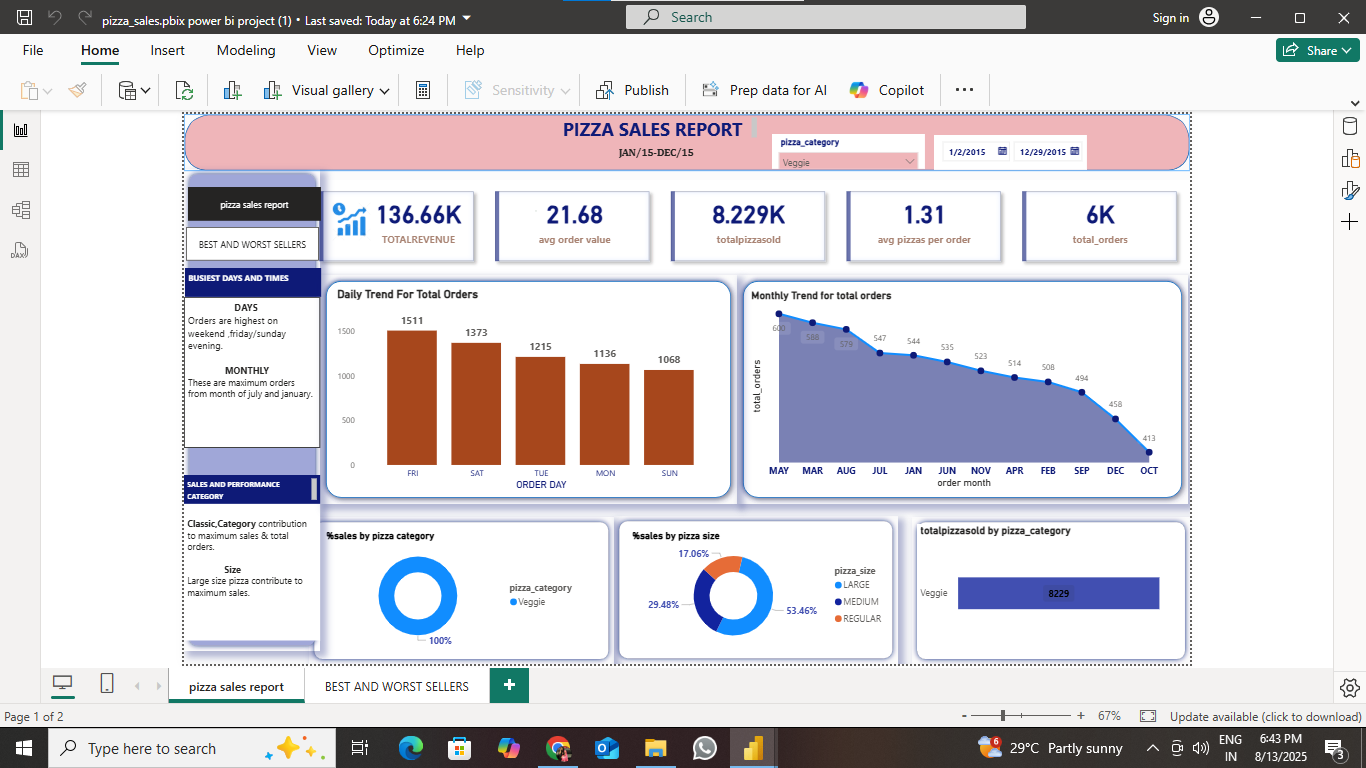

This screenshot's page, from the dashboard's own definition file:
{"tool":"powerbi","page":{"name":"pizza sales report ","canvas":[1500,820],"ordinal":0},"visuals":[{"type":"cardVisual","fields":{"Data":["pizza_sales.TOTALREVENUE","pizza_sales.avg order value","pizza_sales.totalpizzasold","pizza_sales.avg pizzas per order","pizza_sales.total_orders"]},"box":[184.3,98.6,1315.7,138.6],"z":0},{"type":"shape","box":[0,0,1500,85.1],"z":1000},{"type":"textbox","box":[564.2,43.3,280.6,29.9],"z":2000},{"type":"textbox","box":[547.8,0,311.9,43.3],"z":3000},{"type":"areaChart","box":[841.3,255.8,638,306.7],"z":4000},{"type":"shape","box":[824.9,239.4,672.4,341.1],"z":5000},{"type":"areaChart","title":"Monthly Trend for total orders","fields":{"Y":["pizza_sales.total_orders"],"Category":["pizza_sales.order month"]},"box":[841.3,260.8,623.2,301.8],"z":6000},{"type":"shape","box":[187,600.2,454.3,219.8],"z":7000},{"type":"shape","box":[641.4,600,422.9,220],"z":8000},{"type":"shape","box":[1085.7,600.2,414.9,219.8],"z":9000},{"type":"donutChart","title":"%sales by pizza category","fields":{"Category":["pizza_sales.pizza_category"],"Y":["pizza_sales.TOTALREVENUE"]},"box":[206.6,619.9,392,180.4],"z":10000},{"type":"donutChart","title":"%sales by pizza size","fields":{"Y":["pizza_sales.TOTALREVENUE"],"Category":["pizza_sales.pizza_size"]},"box":[662.9,620,391.4,180],"z":11000},{"type":"funnel","fields":{"Category":["pizza_sales.pizza_category"],"Y":["pizza_sales.totalpizzasold"]},"box":[1092.9,611.4,371.4,188.6],"z":12000},{"type":"shape","box":[0,82,203.4,718.3],"z":13000},{"type":"textbox","box":[1.4,229.2,202.8,43.1],"z":14000},{"type":"textbox","box":[0,272.2,202.8,225],"z":15000},{"type":"textbox","box":[0,580.6,203.4,205],"z":16000},{"type":"slicer","fields":{"Values":["pizza_sales.pizza_category"]},"box":[876.1,29.9,228.4,52.2],"z":17000},{"type":"slicer","fields":{"Values":["pizza_sales.order_date"]},"box":[1117.9,31.3,228.4,52.2],"z":18000},{"type":"shape","box":[203.4,239.4,621.6,341.1],"z":19000},{"type":"columnChart","title":"Daily Trend For Total Orders","fields":{"Category":["pizza_sales.ORDER DAY"],"Y":["pizza_sales.total_orders"]},"box":[223,257.5,582.2,308.3],"z":20000},{"type":"textbox","box":[0,537.9,203.4,42.6],"z":21000},{"type":"pageNavigator","box":[5.6,108.3,198.6,50],"z":22000},{"type":"pageNavigator","box":[2.8,168.1,198.6,50],"z":23000}]}

Visuals, with their boxes on the page's 1500x820 design canvas (x1, y1, x2, y2). These are canvas units, not pixel positions in the 1366x768 screenshot, which may show the page scaled, cropped or inside an application window:
cardVisual - pizza_sales.TOTALREVENUE x pizza_sales.avg order value: {"left": 184, "top": 99, "right": 1500, "bottom": 237}
shape: {"left": 0, "top": 0, "right": 1500, "bottom": 85}
textbox: {"left": 564, "top": 43, "right": 845, "bottom": 73}
textbox: {"left": 548, "top": 0, "right": 860, "bottom": 43}
areaChart: {"left": 841, "top": 256, "right": 1479, "bottom": 562}
shape: {"left": 825, "top": 239, "right": 1497, "bottom": 580}
"Monthly Trend for total orders" areaChart: {"left": 841, "top": 261, "right": 1464, "bottom": 563}
shape: {"left": 187, "top": 600, "right": 641, "bottom": 820}
shape: {"left": 641, "top": 600, "right": 1064, "bottom": 820}
shape: {"left": 1086, "top": 600, "right": 1501, "bottom": 820}
"%sales by pizza category" donutChart: {"left": 207, "top": 620, "right": 599, "bottom": 800}
"%sales by pizza size" donutChart: {"left": 663, "top": 620, "right": 1054, "bottom": 800}
funnel - pizza_sales.pizza_category x pizza_sales.totalpizzasold: {"left": 1093, "top": 611, "right": 1464, "bottom": 800}
shape: {"left": 0, "top": 82, "right": 203, "bottom": 800}
textbox: {"left": 1, "top": 229, "right": 204, "bottom": 272}
textbox: {"left": 0, "top": 272, "right": 203, "bottom": 497}
textbox: {"left": 0, "top": 581, "right": 203, "bottom": 786}
slicer - pizza_sales.pizza_category: {"left": 876, "top": 30, "right": 1104, "bottom": 82}
slicer - pizza_sales.order_date: {"left": 1118, "top": 31, "right": 1346, "bottom": 84}
shape: {"left": 203, "top": 239, "right": 825, "bottom": 580}
"Daily Trend For Total Orders" columnChart: {"left": 223, "top": 258, "right": 805, "bottom": 566}
textbox: {"left": 0, "top": 538, "right": 203, "bottom": 580}
pageNavigator: {"left": 6, "top": 108, "right": 204, "bottom": 158}
pageNavigator: {"left": 3, "top": 168, "right": 201, "bottom": 218}
